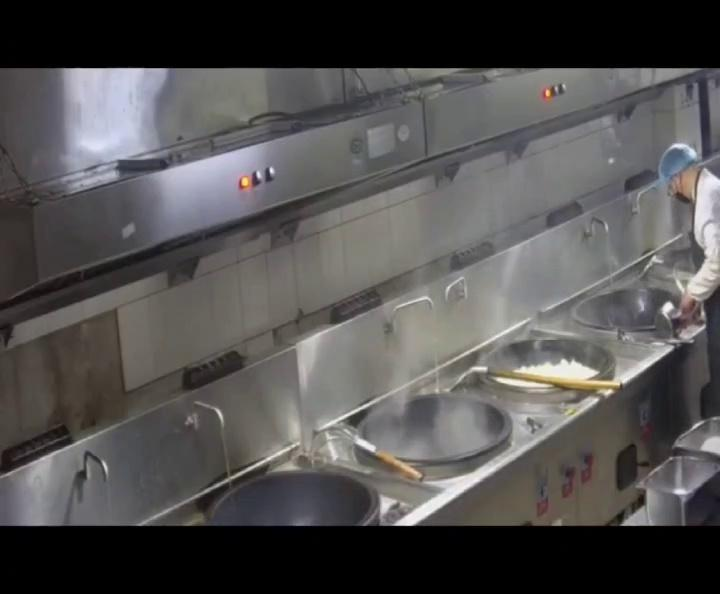gloves: (655, 142, 705, 180)
mask: (668, 186, 698, 205)
